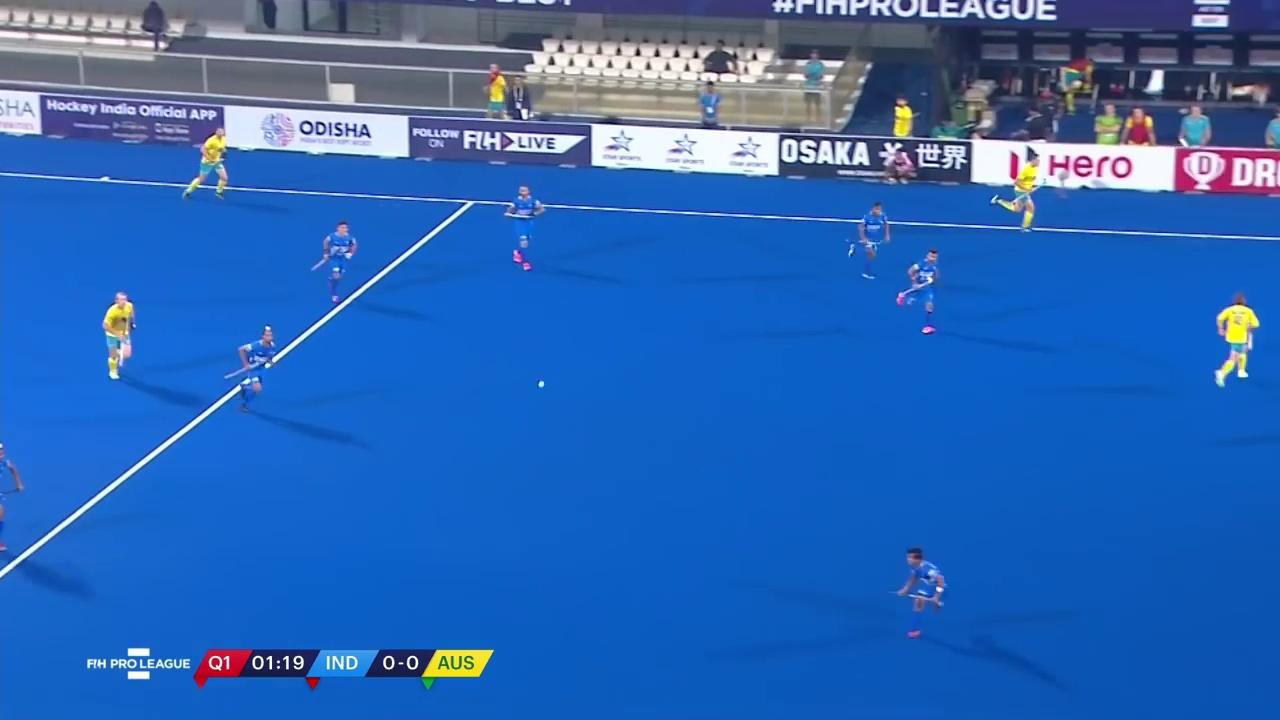ball: (528, 371, 555, 395)
